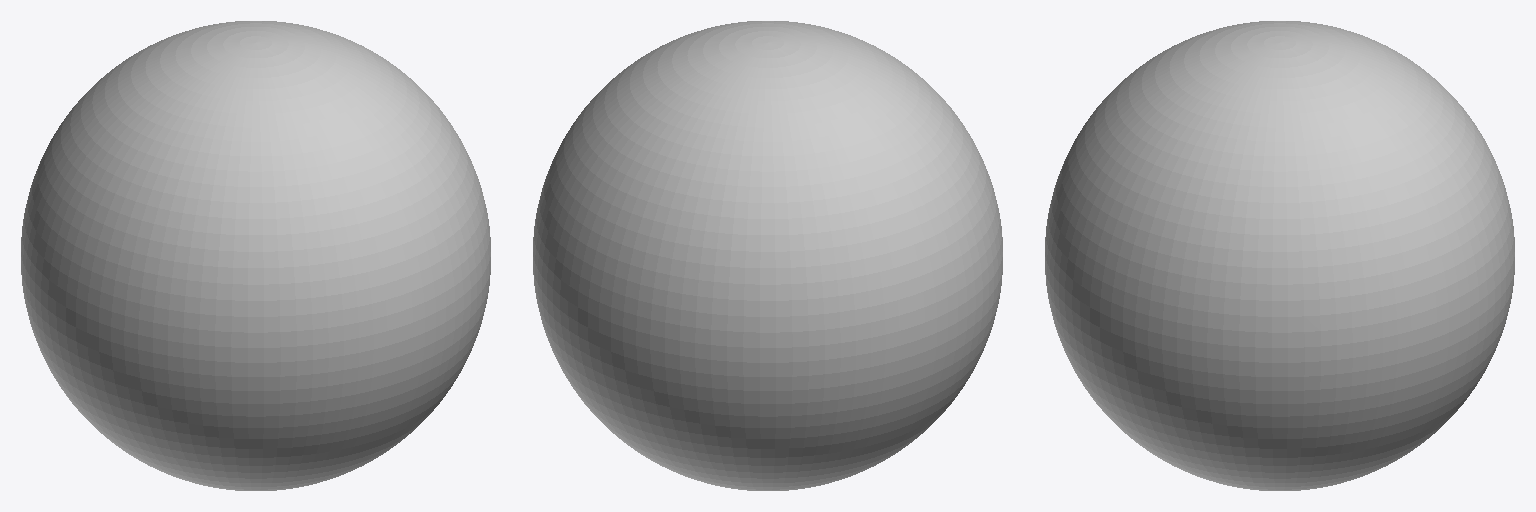
Rendered from Earth3.obj.
The picture shows the model from 3 angles: view 1: azimuth 30°, elevation 25°; view 2: azimuth 150°, elevation 25°; view 3: azimuth 270°, elevation 25°; orthographic projection.
Parts seen in each view (by area): view 1: Sphere; view 2: Sphere; view 3: Sphere.
Boxes of the visible parts, <box> form: Sphere: <box>21,21,490,490</box>; Sphere: <box>533,21,1002,490</box>; Sphere: <box>1045,21,1514,490</box>.
Size of the model in its own units: 3.7 by 3.7 by 3.7.